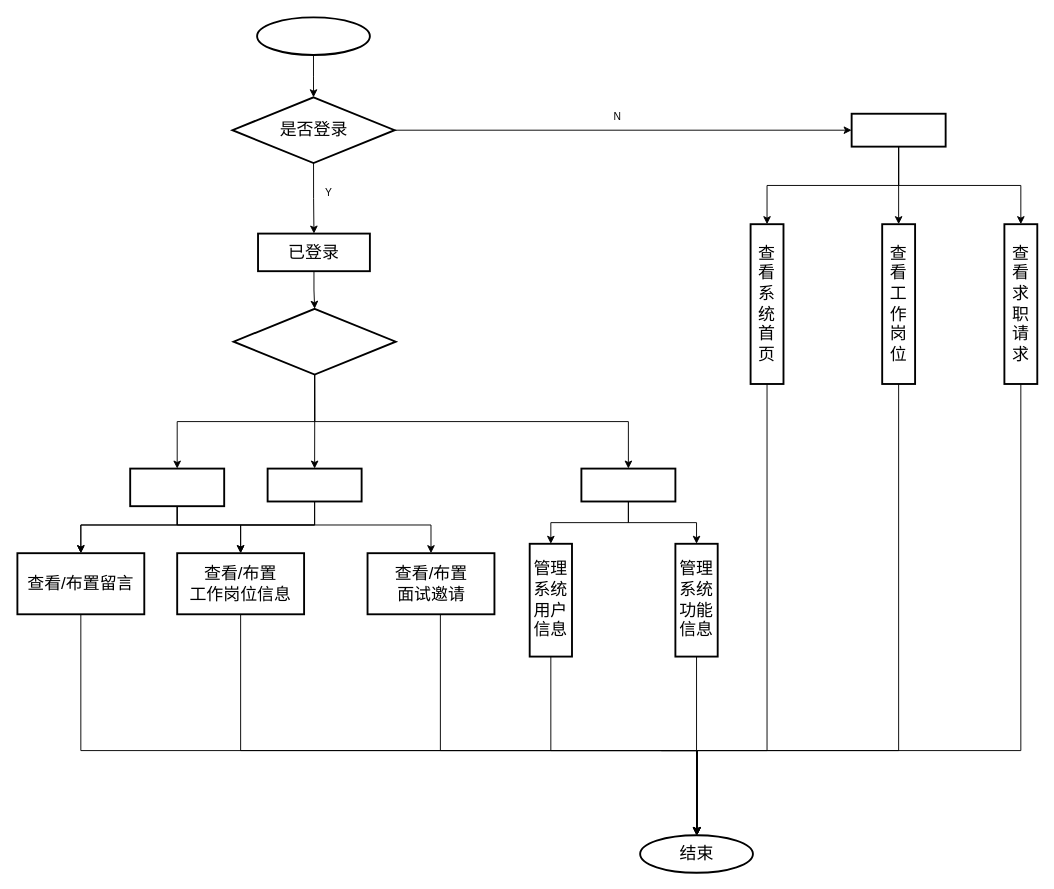
Image size: 1054x889. Some labels were removed from this diagram. The centre of each missing label's shape, as x and y in pixels:
"企业用户" belongs at [314,484].
"应聘者" belongs at [177,487].
"开始" belongs at [313,35].
"用户类别" belongs at [314,341].
"系统管理员" belongs at [628,484].
"访客" belongs at [898,129].
